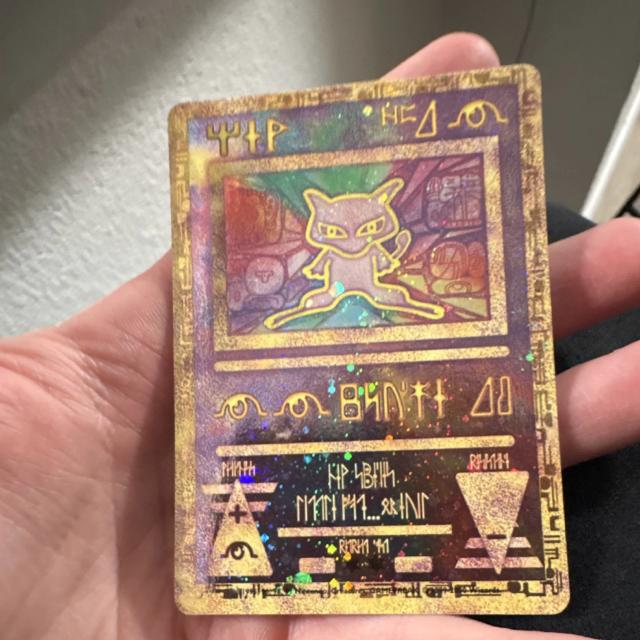Card: (163, 55, 579, 622)
Name: (192, 108, 298, 167)
